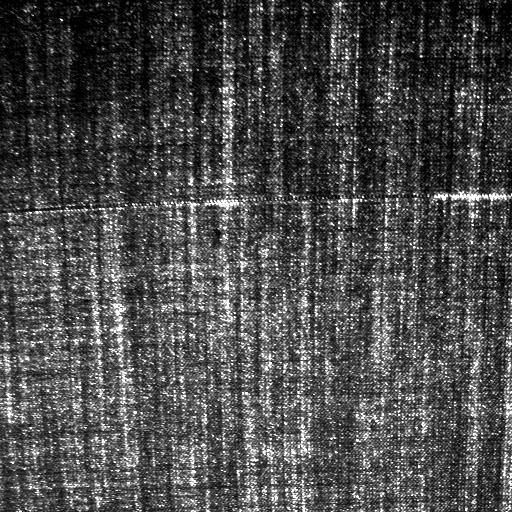fabric_hole: (16, 178, 500, 220)
